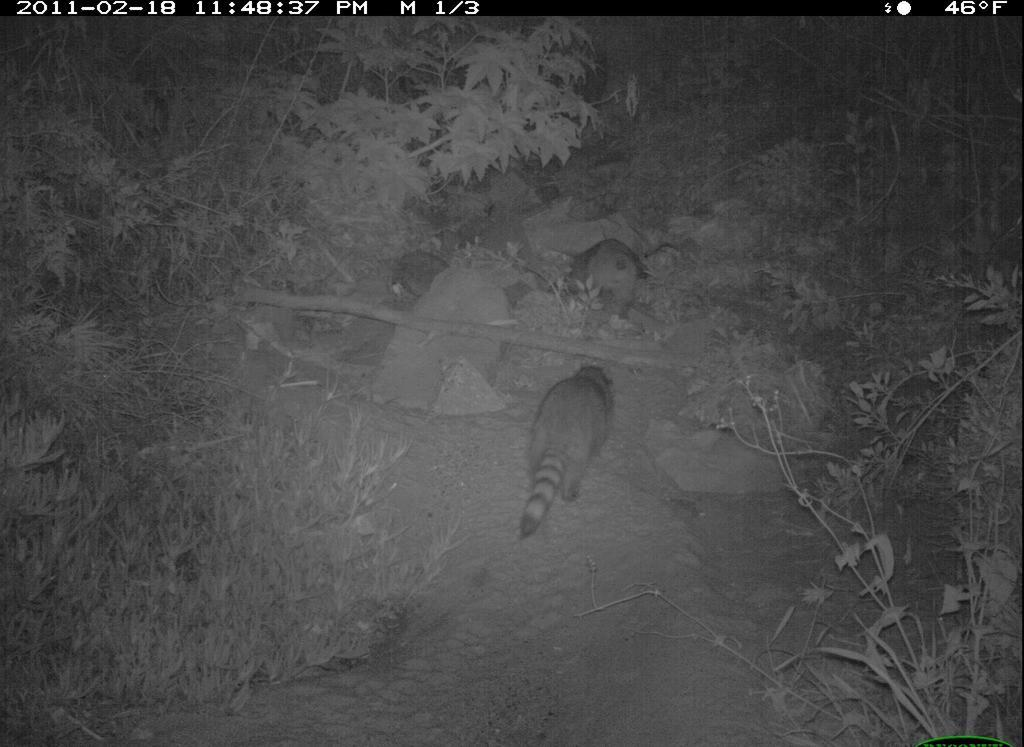raccoon: (519, 355, 620, 543)
